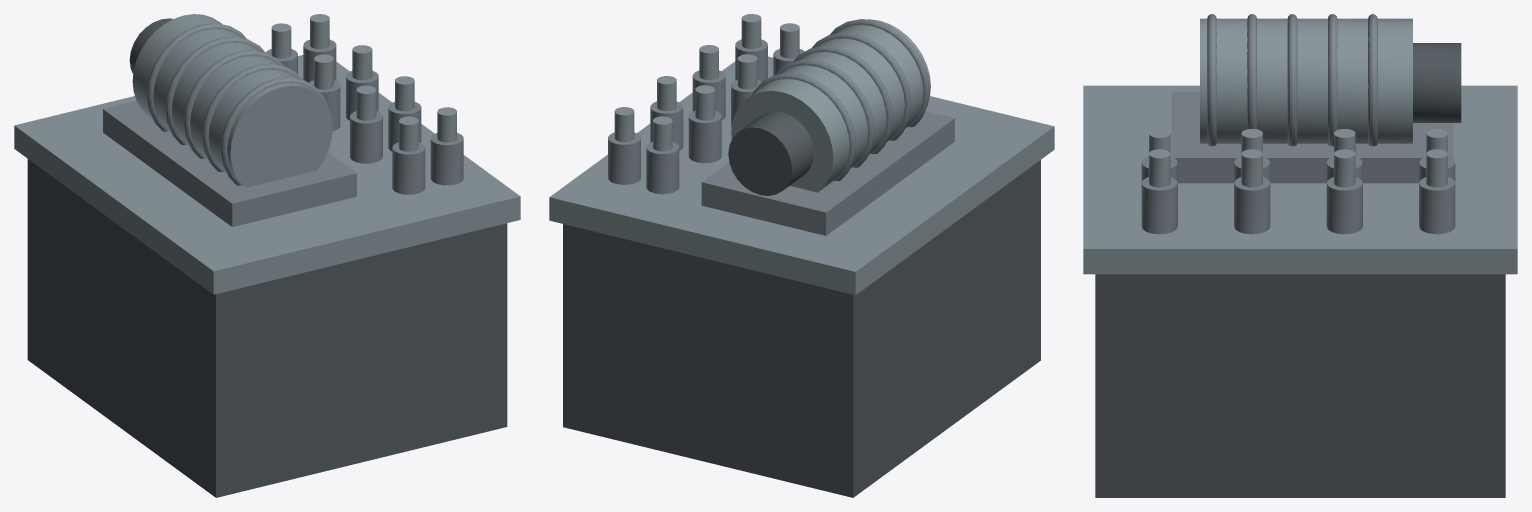
Rendered from axle_end_check_table.dae.
3 renders of one model, left to right at view 1: azimuth 30°, elevation 25°; view 2: azimuth 150°, elevation 25°; view 3: azimuth 270°, elevation 25°, orthographic. The views are drawn at different scales.
Visible parts, largest first — view 1: axle_end_check_table; view 2: axle_end_check_table; view 3: axle_end_check_table.
Part boxes in pixels (left/top/right/bottom): axle_end_check_table: left=14, top=14, right=520, bottom=497; axle_end_check_table: left=549, top=14, right=1054, bottom=497; axle_end_check_table: left=1083, top=14, right=1517, bottom=497.
Bounding box in the file's own units: 0.96 × 1.08 × 1.05.
